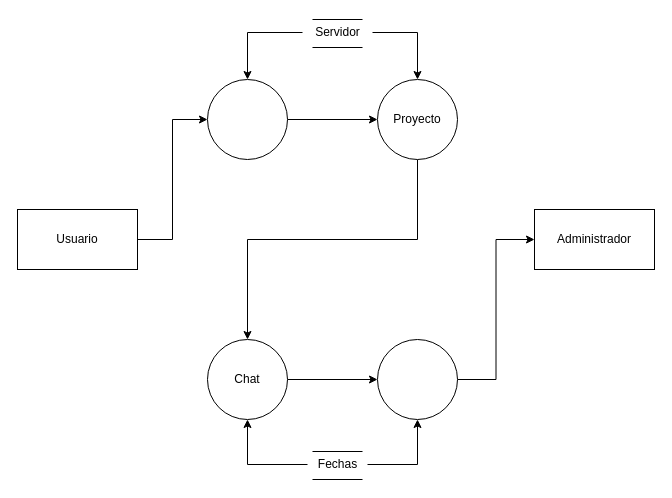
Some shapes in this 672 by 498 pixel diagram are drawn without their labels. The box of each missing label's shape, as (x1, y1, x2, y2) in pixels:
Mensajes: (376, 338, 458, 420)
Pagina: (206, 78, 288, 160)
